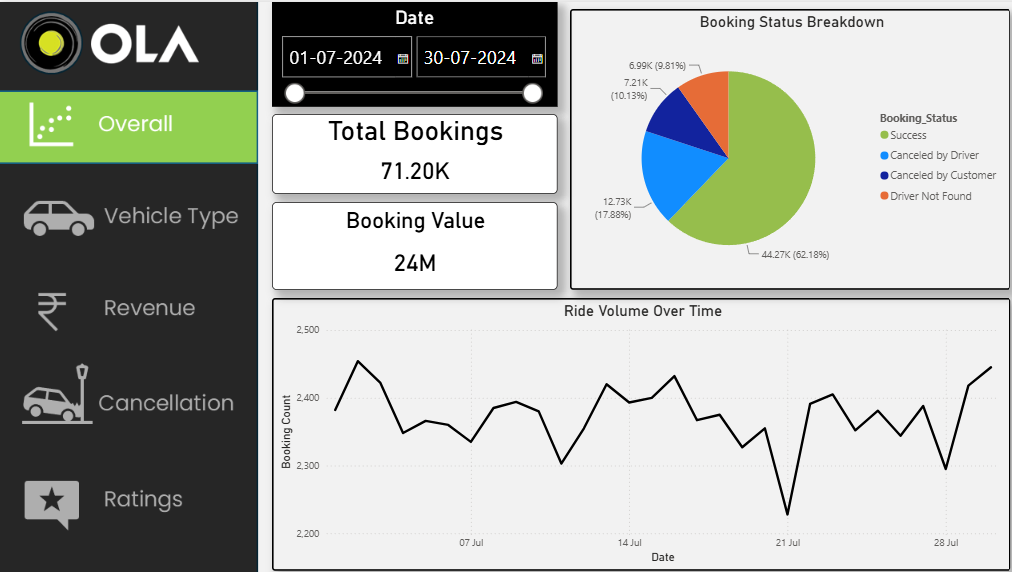

The dashboard page shown, as its layout file describes it:
{"tool":"powerbi","page":{"name":"overall","canvas":[1280,720],"ordinal":0},"visuals":[{"type":"actionButton","box":[0,218.5,324.8,89.6],"z":0},{"type":"actionButton","box":[0,341.6,324.8,89.6],"z":1000},{"type":"actionButton","box":[0,444.6,324.8,107.2],"z":2000},{"type":"actionButton","box":[0,566.8,324.8,107.2],"z":3000},{"type":"actionButton","box":[0,107.2,324.8,98.8],"z":4000},{"type":"lineChart","title":"Ride Volume Over Time","fields":{"Category":["July.Date"],"Y":["CountNonNull(July.Booking_ID)"]},"box":[341.2,370,923.8,341.2],"z":5000},{"type":"pieChart","title":"Booking Status Breakdown","fields":{"Y":["CountNonNull(July.Booking_ID)"],"Category":["July.Booking_Status"]},"box":[714.2,8.6,551.2,351.1],"z":6000},{"type":"slicer","title":"Date","fields":{"Values":["July.Date"]},"box":[341.4,0,357.1,131.4],"z":7000},{"type":"card","title":"Total Bookings","fields":{"Values":["CountNonNull(July.Booking_ID)"]},"box":[341.6,139.7,357.1,100.1],"z":8000},{"type":"card","title":"Booking Value","fields":{"Values":["Sum(July.Booking_Value)"]},"box":[341.6,250.1,357.1,109.5],"z":9000}]}

Visuals, with their boxes in screenshot pixels (x1, y1, x2, y2), scaled from the page's 1280x720 canvas onto the 1012x572 screenshot:
actionButton: {"x1": 0, "y1": 174, "x2": 257, "y2": 245}
actionButton: {"x1": 0, "y1": 271, "x2": 257, "y2": 343}
actionButton: {"x1": 0, "y1": 353, "x2": 257, "y2": 438}
actionButton: {"x1": 0, "y1": 450, "x2": 257, "y2": 535}
actionButton: {"x1": 0, "y1": 85, "x2": 257, "y2": 164}
"Ride Volume Over Time" lineChart: {"x1": 270, "y1": 294, "x2": 1000, "y2": 565}
"Booking Status Breakdown" pieChart: {"x1": 565, "y1": 7, "x2": 1000, "y2": 286}
"Date" slicer: {"x1": 270, "y1": 0, "x2": 552, "y2": 104}
"Total Bookings" card: {"x1": 270, "y1": 111, "x2": 552, "y2": 191}
"Booking Value" card: {"x1": 270, "y1": 199, "x2": 552, "y2": 286}
